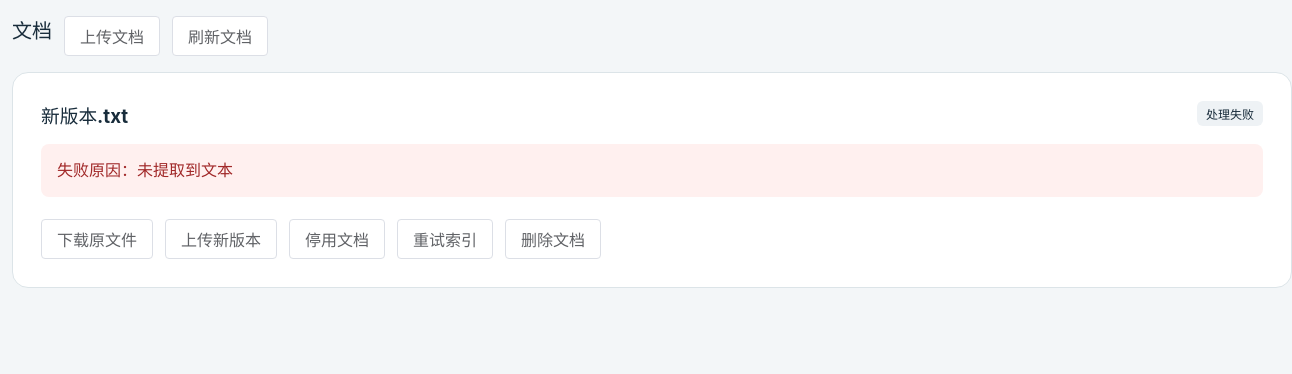
admin can retry failed index and receives an error on a failed write
Step 1. Click the button "重试索引" → (445, 239), box [397, 219, 493, 259]
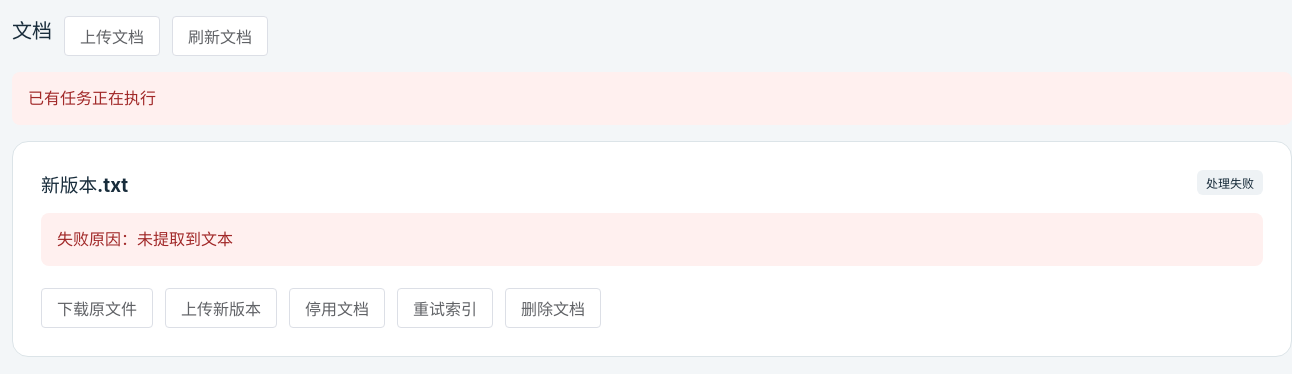
Now the message "已有任务正在执行" is shown, box [12, 72, 1291, 125]
